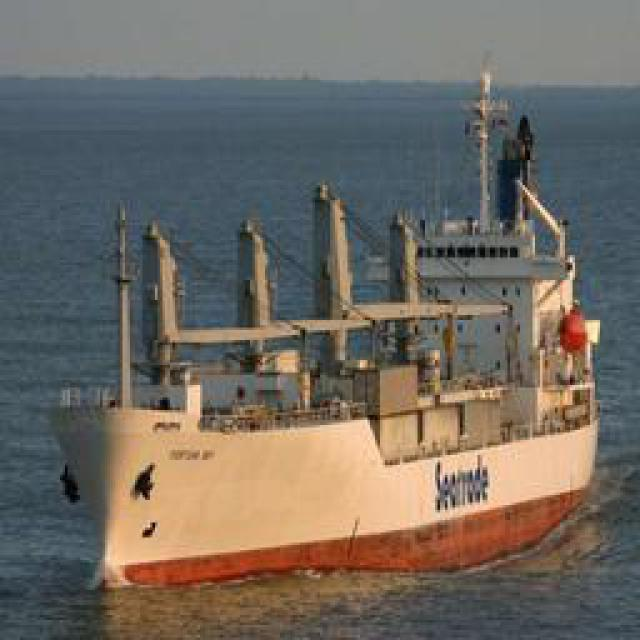Ship: (71, 95, 599, 608)
